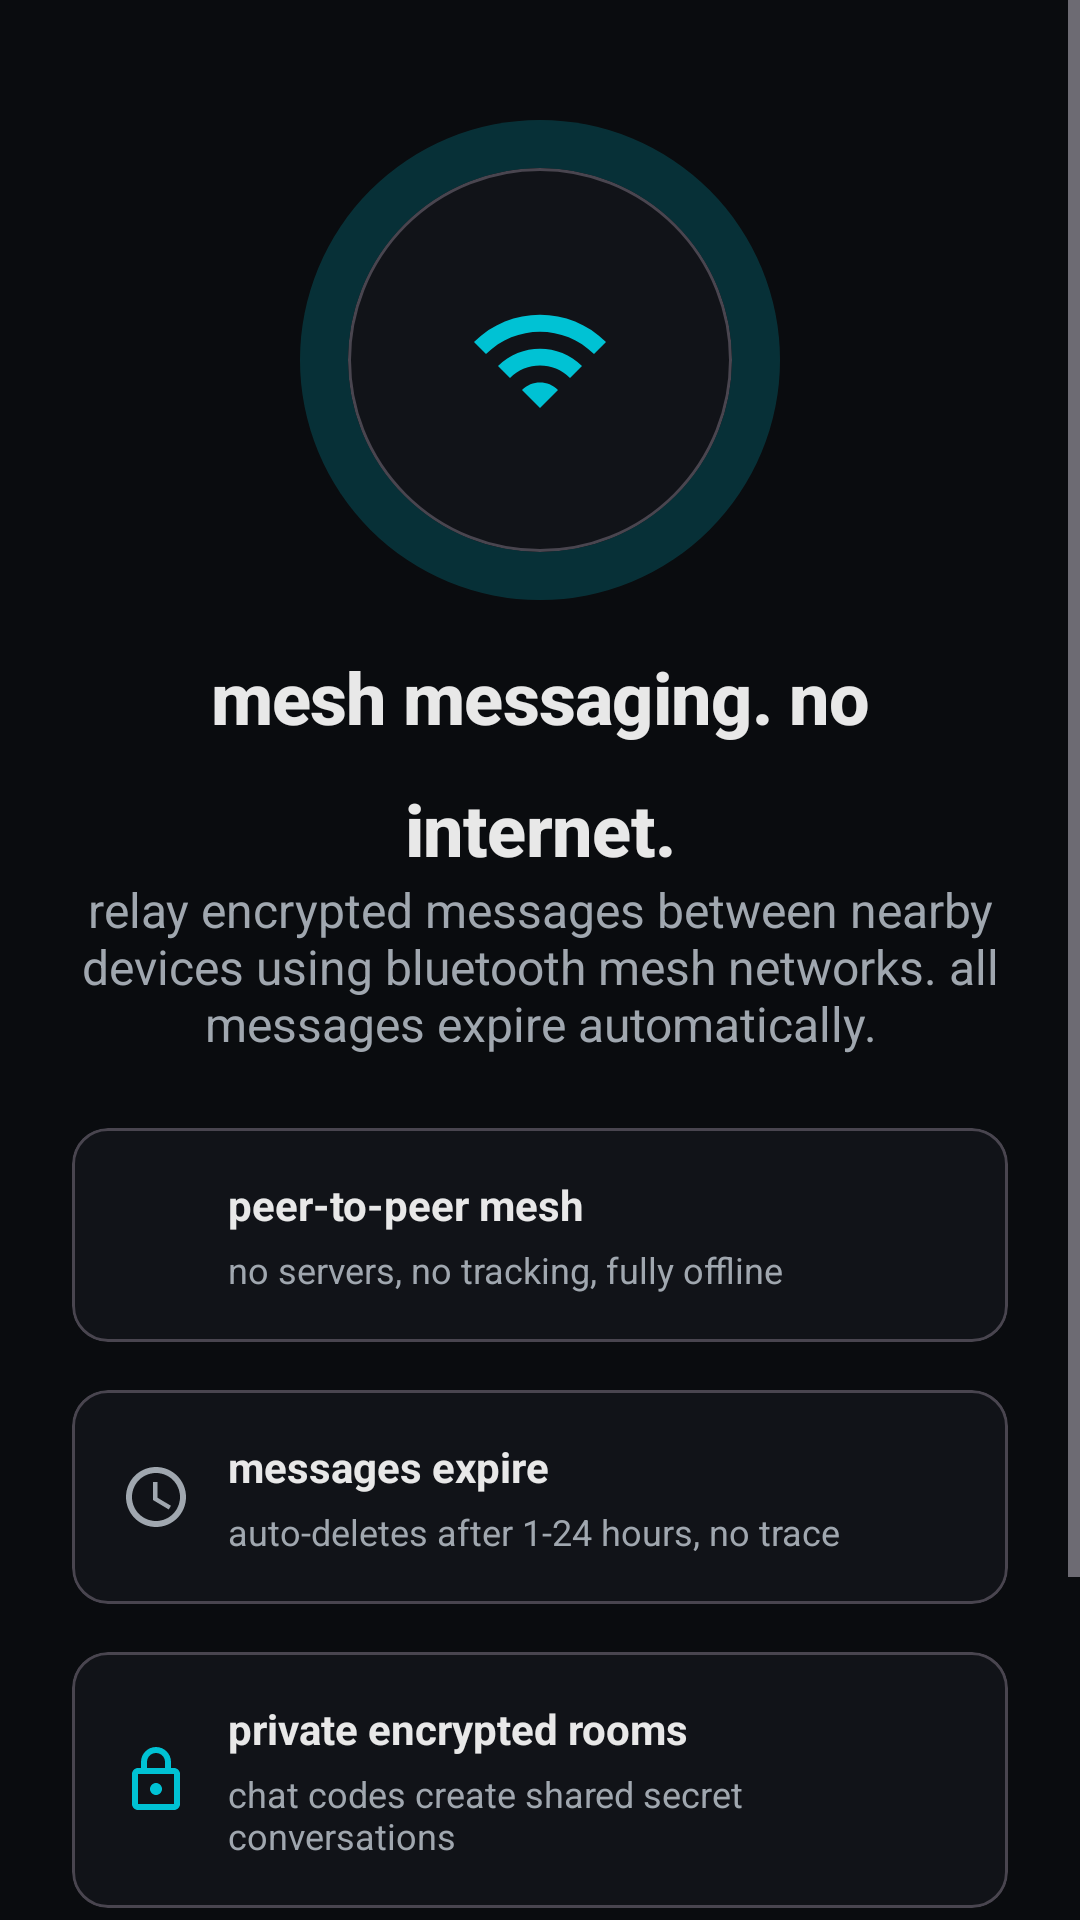

Named icons in this screenshot (1080w x 1920h) and their centers, (x,y):
Nearby devices: (540,361)
